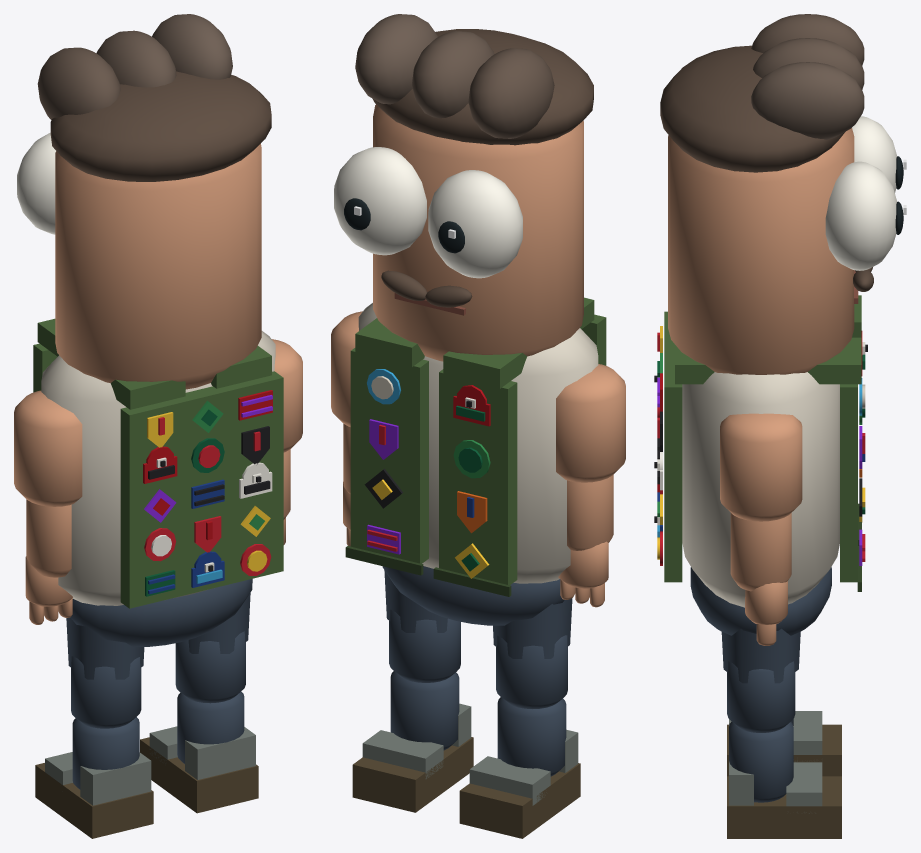
Rendered from spectator_11.glb.
3 views of the same model, side by side, from view 1: azimuth 30°, elevation 25°; view 2: azimuth 150°, elevation 25°; view 3: azimuth 270°, elevation 25° (orthographic). The views are drawn at different scales.
Parts seen in each view (by area): view 1: Head, RallySpectator, LeftShin, RightShin, LeftArm, LeftLeg, RightLeg, LeftForearm, RightArm, RightForearm; view 2: Head, RallySpectator, LeftShin, RightShin, LeftArm, LeftLeg, LeftForearm, RightLeg, RightArm, RightForearm; view 3: Head, RallySpectator, RightShin, RightArm, RightLeg, RightForearm, LeftShin.
Boxes of the visible parts, left/top/right/bottom form: Head: left=17, top=14, right=271, bottom=389; RallySpectator: left=33, top=318, right=283, bottom=646; LeftShin: left=35, top=717, right=153, bottom=838; RightShin: left=140, top=691, right=258, bottom=813; LeftArm: left=14, top=390, right=82, bottom=506; LeftLeg: left=66, top=617, right=144, bottom=728; RightLeg: left=175, top=593, right=250, bottom=703; LeftForearm: left=25, top=499, right=72, bottom=624; RightArm: left=272, top=339, right=302, bottom=452; RightForearm: left=283, top=449, right=290, bottom=544; Head: left=334, top=14, right=593, bottom=361; RallySpectator: left=345, top=297, right=606, bottom=625; LeftShin: left=459, top=697, right=580, bottom=838; RightShin: left=352, top=671, right=473, bottom=812; LeftArm: left=556, top=364, right=625, bottom=482; LeftLeg: left=493, top=598, right=572, bottom=708; LeftForearm: left=558, top=475, right=613, bottom=607; RightLeg: left=384, top=570, right=460, bottom=682; RightArm: left=331, top=311, right=362, bottom=426; RightForearm: left=343, top=423, right=350, bottom=546; Head: left=660, top=14, right=906, bottom=374; RallySpectator: left=654, top=295, right=867, bottom=635; RightShin: left=727, top=721, right=841, bottom=838; RightArm: left=720, top=413, right=802, bottom=521; RightLeg: left=721, top=628, right=800, bottom=732; RightForearm: left=730, top=513, right=791, bottom=645; LeftShin: left=727, top=711, right=841, bottom=776.
Size of the model in its own units: 0.9 by 2.34 by 0.7035.
